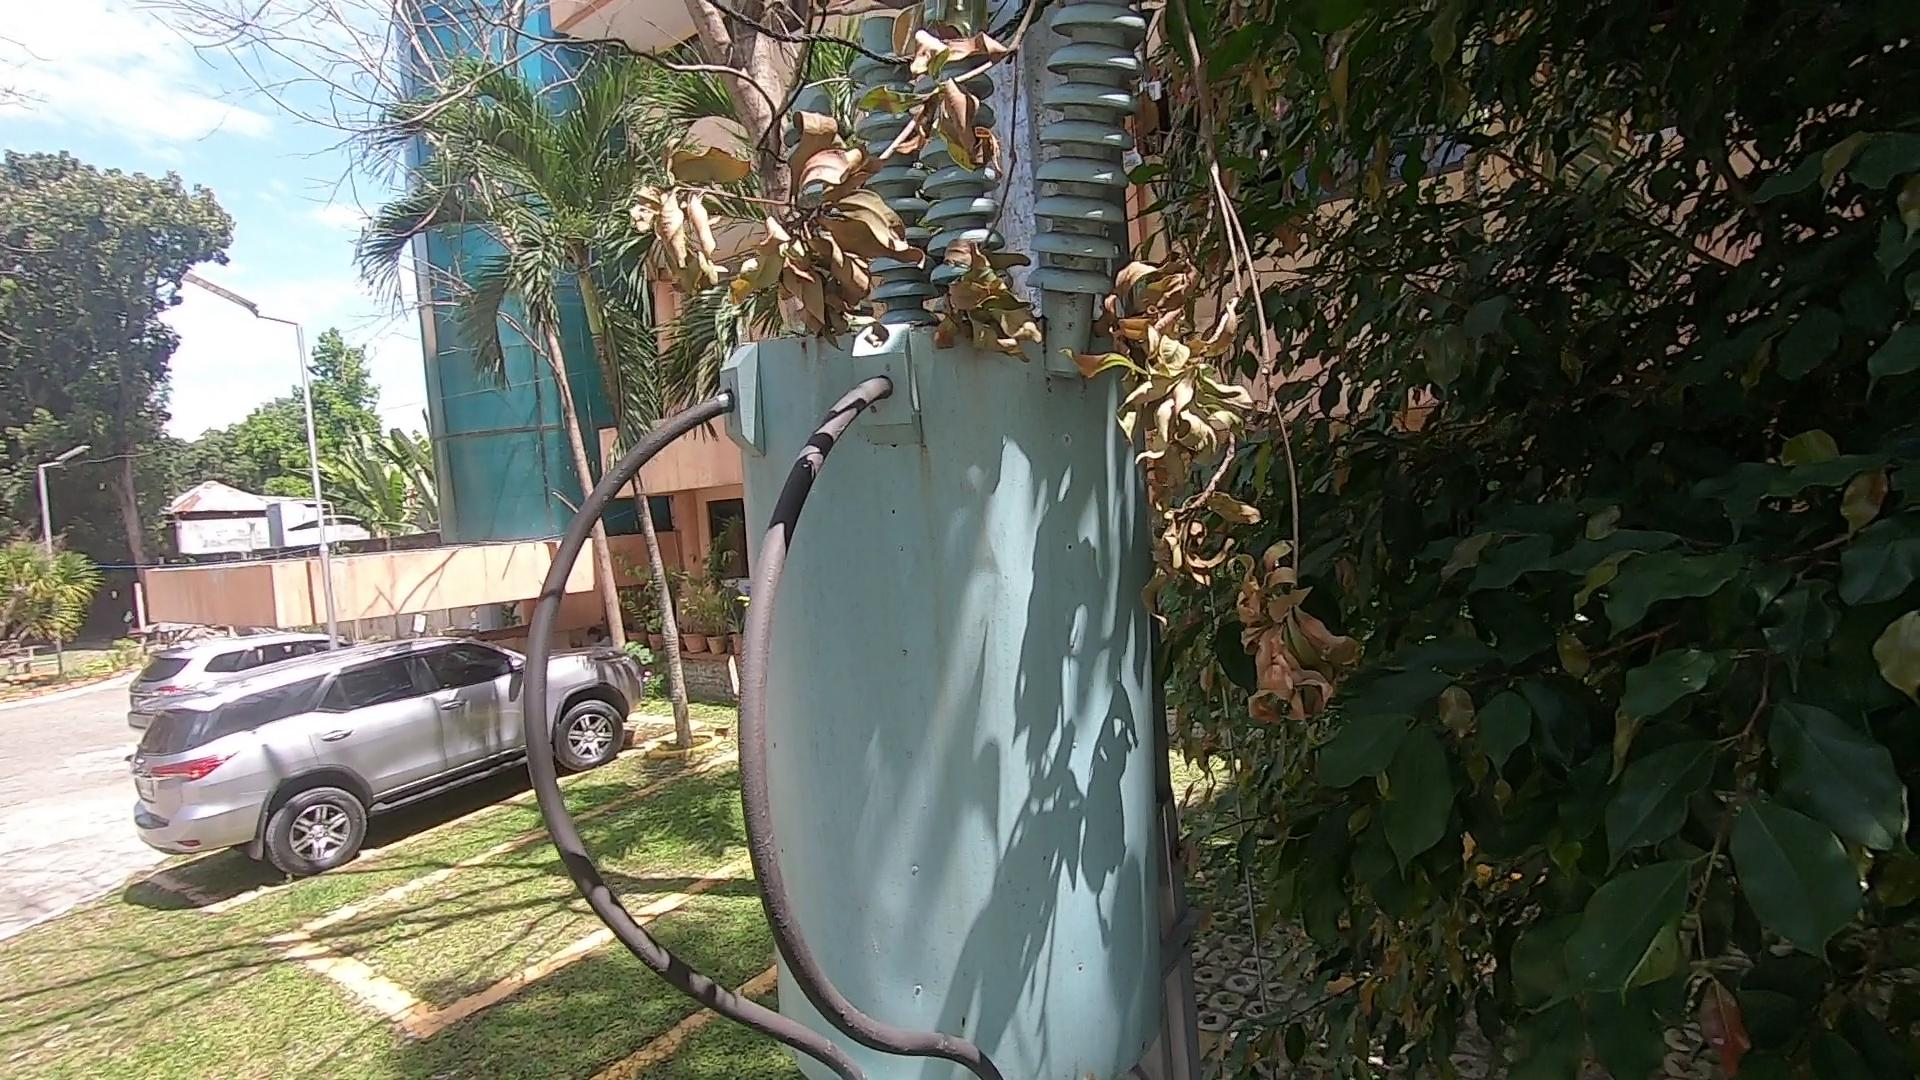branch with leaves: (1077, 1, 1350, 771), (632, 1, 1062, 411)
